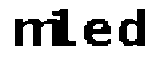1: (55, 5, 76, 48)
d: (123, 4, 149, 51)
e: (84, 16, 111, 52)
m: (9, 17, 61, 51)
